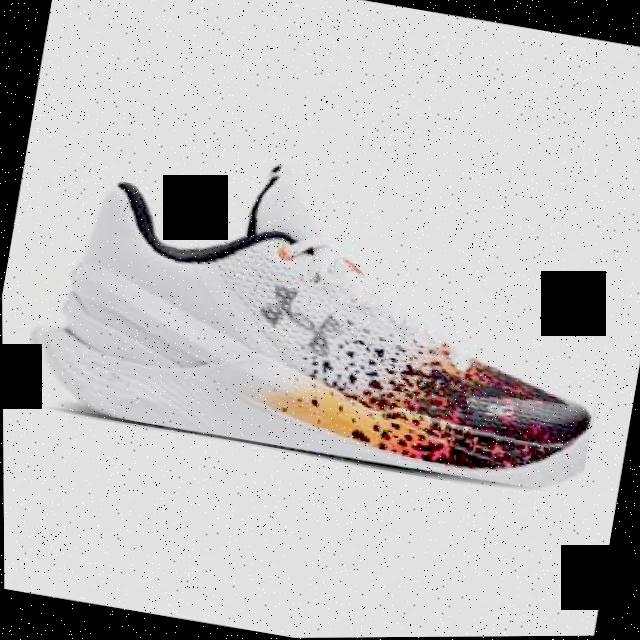shoe: (17, 124, 627, 500)
